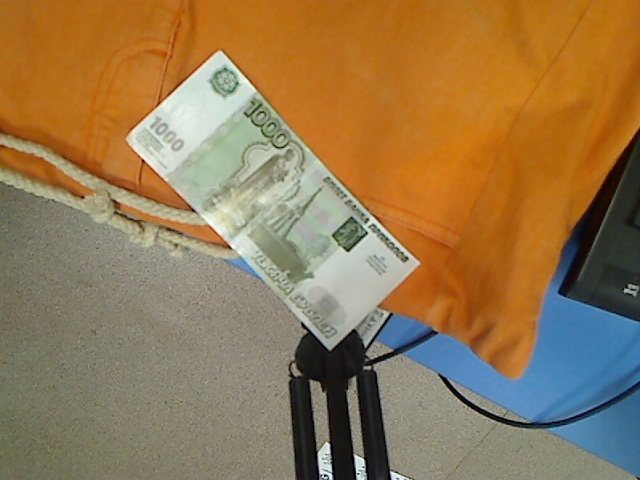banknotes: (122, 47, 427, 353)
